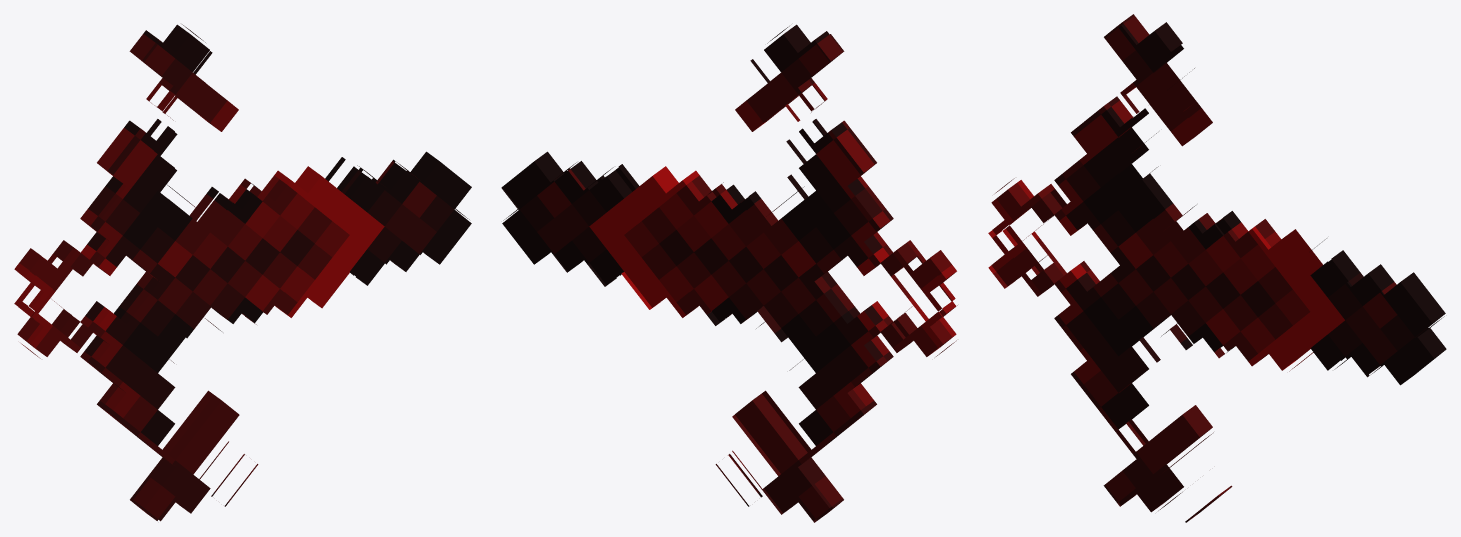
The model's file is SM_HeavyCrossbow_Unique2_4.glb.
The picture shows the model from 3 angles, left to right: view 1: azimuth 30°, elevation 25°; view 2: azimuth 150°, elevation 25°; view 3: azimuth 330°, elevation 25°; orthographic projection.
Parts seen in each view (by area): view 1: SM_HeavyCrossbow_Unique2_4.001; view 2: SM_HeavyCrossbow_Unique2_4.001; view 3: SM_HeavyCrossbow_Unique2_4.001.
Boxes of the visible parts, left/top/right/bottom form: SM_HeavyCrossbow_Unique2_4.001: left=14, top=24, right=471, bottom=521; SM_HeavyCrossbow_Unique2_4.001: left=501, top=24, right=957, bottom=522; SM_HeavyCrossbow_Unique2_4.001: left=988, top=14, right=1446, bottom=522.
Size of the model in its own units: 119 by 124 by 6.25.
1 material, 1 textured.
